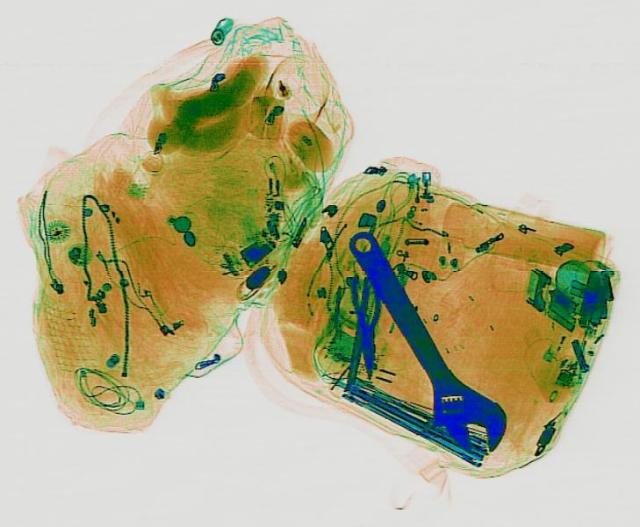Pliers: (349, 274, 381, 377)
Wrench: (323, 221, 519, 462)
